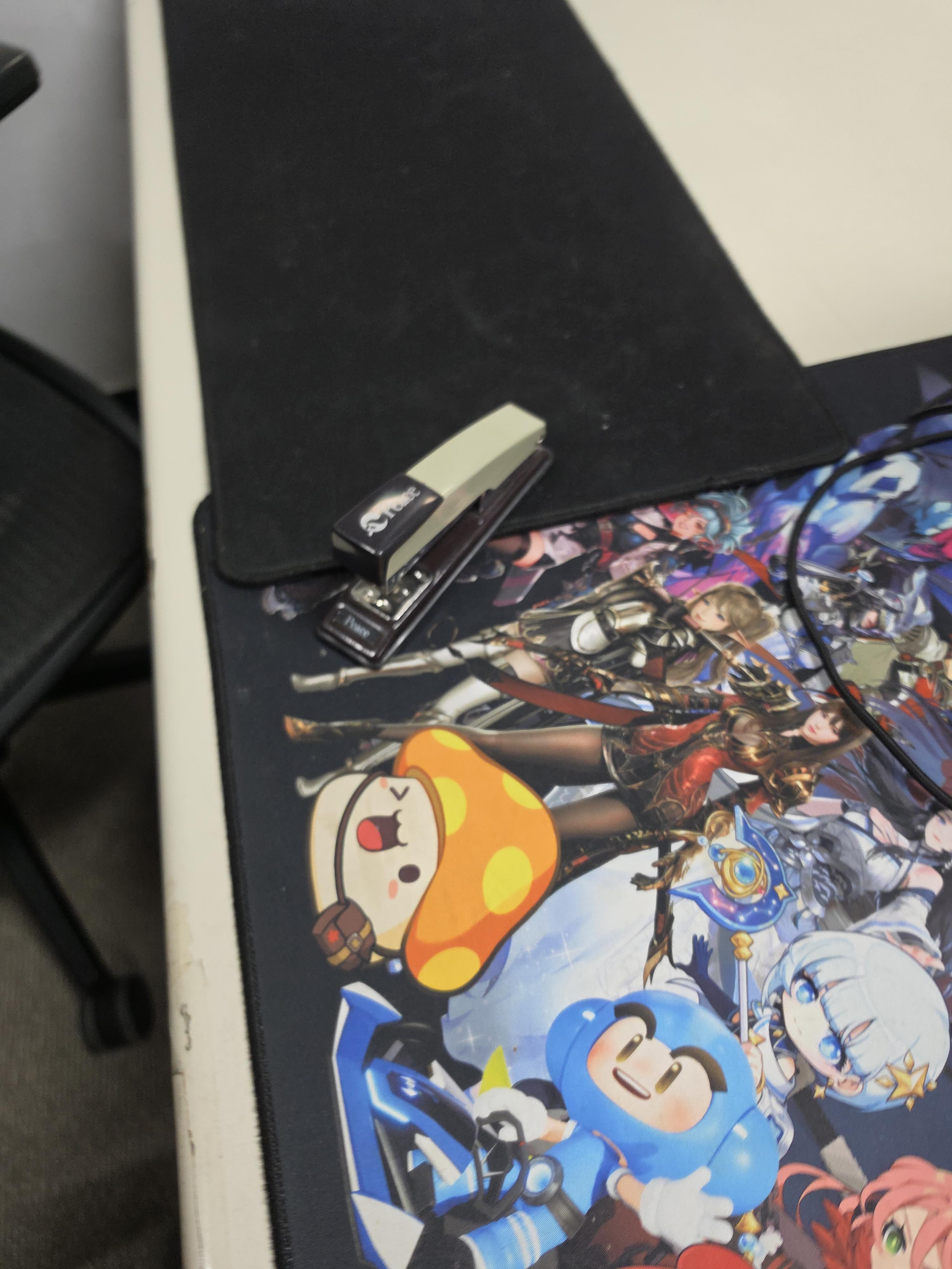stapler: (315, 402, 554, 667)
